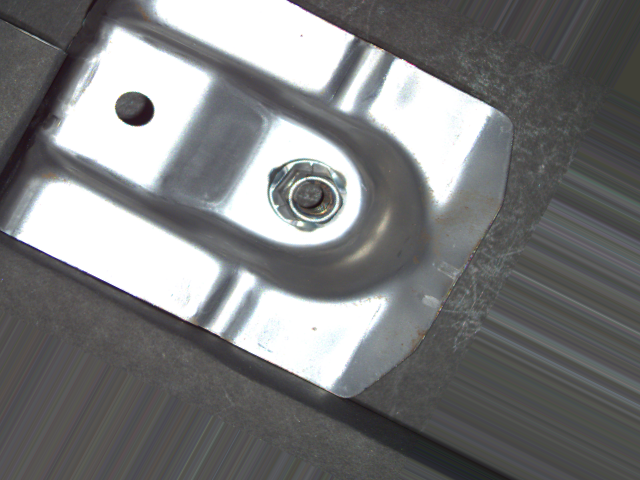good: (263, 153, 350, 231)
